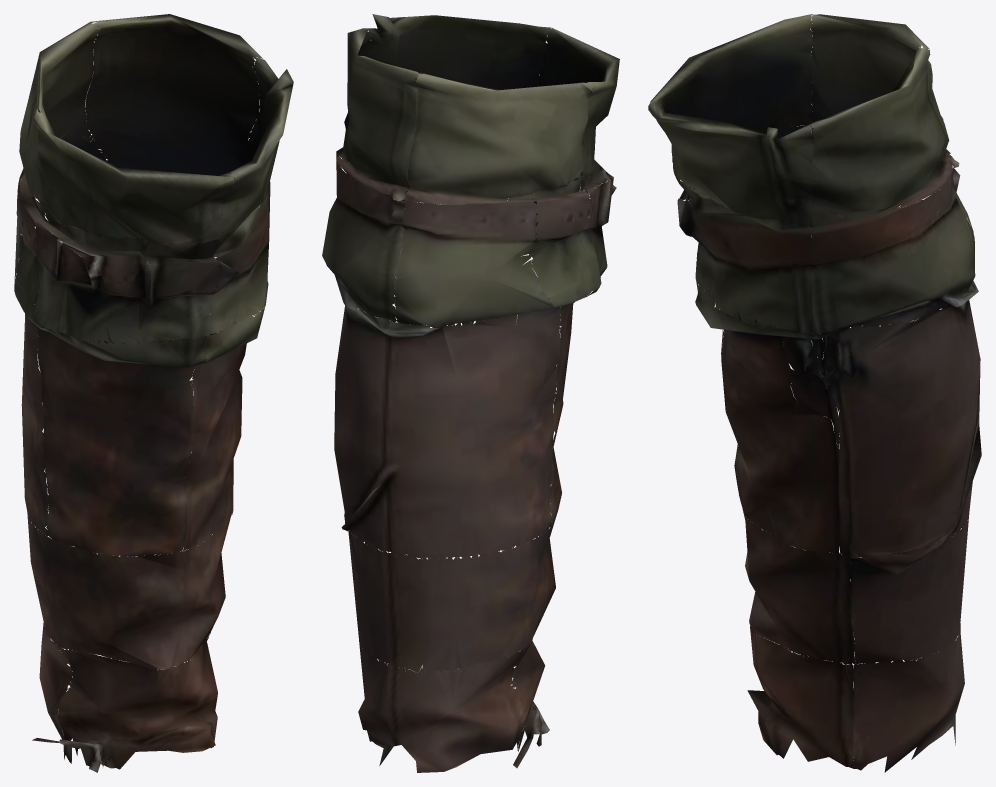
Rendered from a_ranger_boots_L_shaft.glb.
3 views of the same model, side by side, from view 1: azimuth 30°, elevation 25°; view 2: azimuth 150°, elevation 25°; view 3: azimuth 270°, elevation 25° (orthographic).
Visible parts, largest first — view 1: geometry_0.001; view 2: geometry_0.001; view 3: geometry_0.001.
Part boxes in pixels (left/top/right/bottom): geometry_0.001: left=14, top=14, right=293, bottom=772; geometry_0.001: left=322, top=14, right=619, bottom=772; geometry_0.001: left=648, top=14, right=981, bottom=772.
Size of the model in its own units: 0.1333 by 0.3674 by 0.1609.
1 material, 1 textured.
